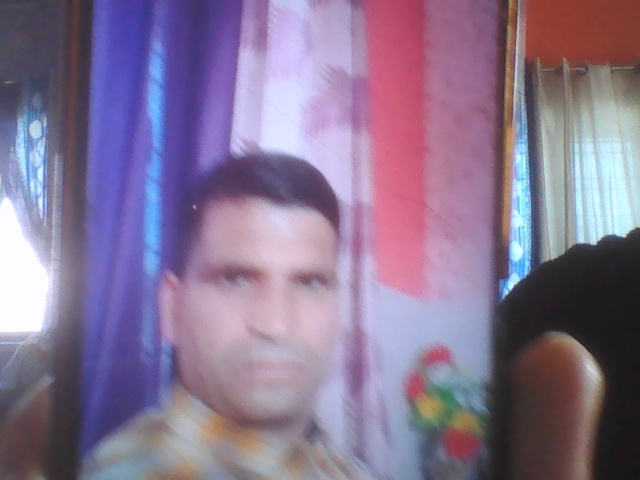fake: (149, 123, 371, 437)
